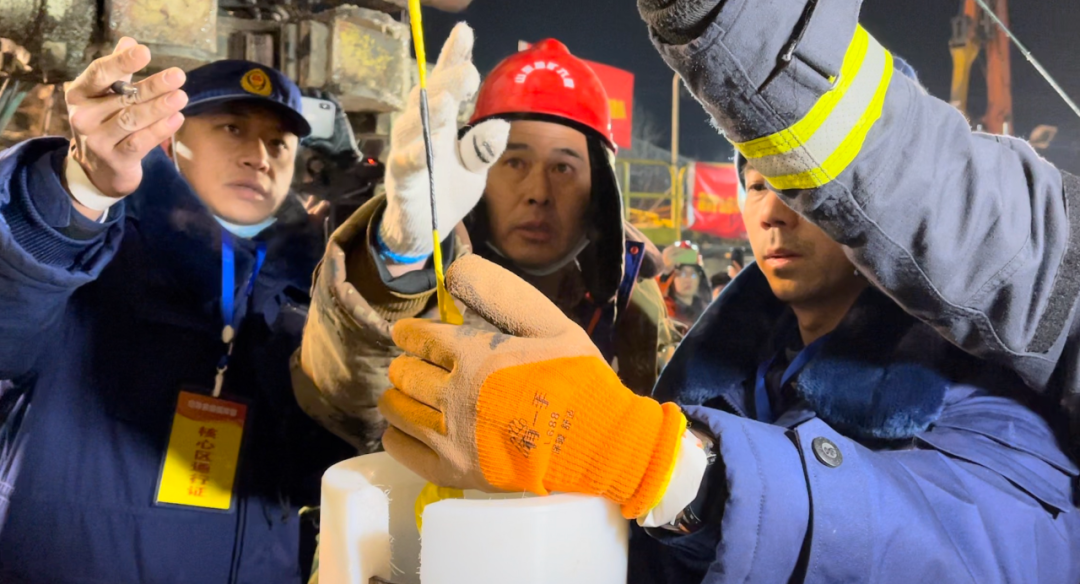helmet: (465, 36, 641, 277)
